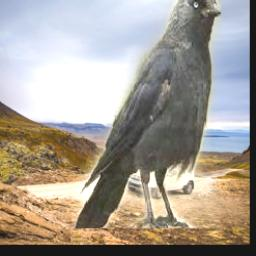Crow: (72, 0, 221, 229)
